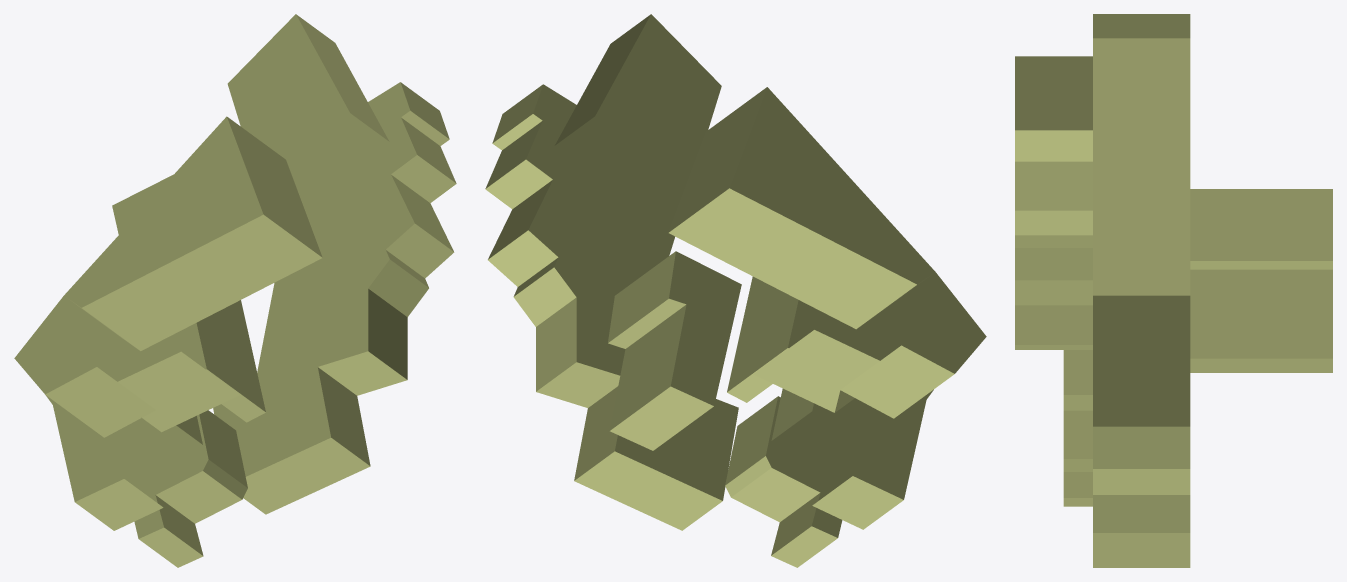
3 views of the same model, side by side, from view 1: azimuth 30°, elevation 25°; view 2: azimuth 150°, elevation 25°; view 3: azimuth 270°, elevation 25° (orthographic). The views are drawn at different scales.
Parts seen in each view (by area): view 1: 0_0_1_3_1_1_2_1_1; view 2: 0_0_1_3_1_1_2_1_1; view 3: 0_0_1_3_1_1_2_1_1.
Part boxes in pixels (<box>): 0_0_1_3_1_1_2_1_1: <box>14,14,456,567</box>; 0_0_1_3_1_1_2_1_1: <box>485,14,986,567</box>; 0_0_1_3_1_1_2_1_1: <box>1015,14,1332,567</box>.
Bounding box in the file's own units: 36.4 × 39.85 × 19.6.
